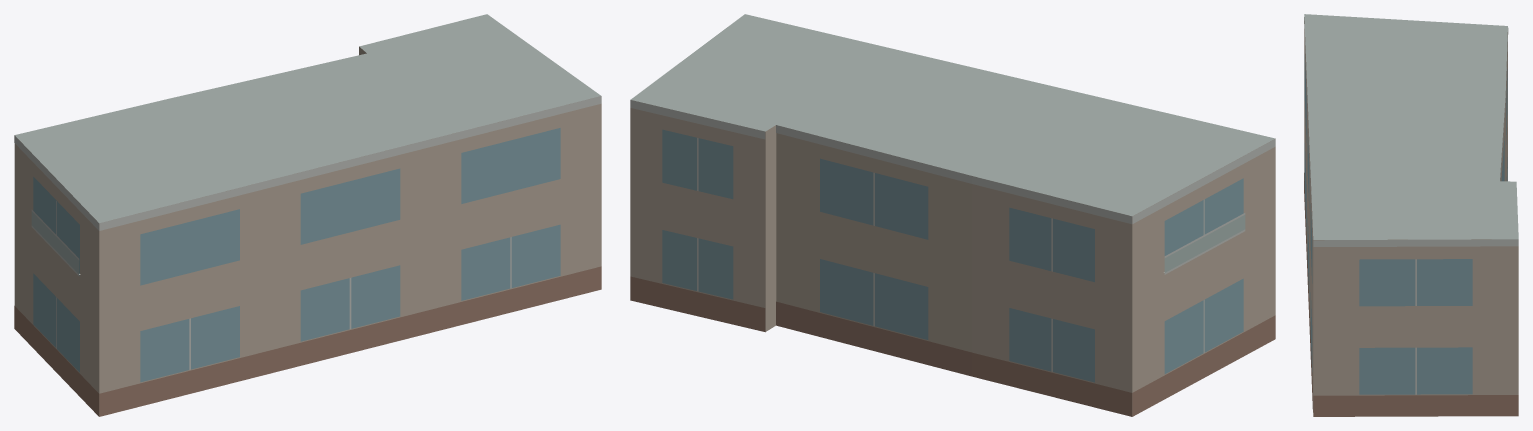
Rendered from survey-upis-32750603.glb.
The picture shows the model from 3 angles, left to right: view 1: azimuth 30°, elevation 25°; view 2: azimuth 150°, elevation 25°; view 3: azimuth 270°, elevation 25°; orthographic projection. The views are drawn at different scales.
Visible parts, largest first — view 1: survey-upis-32750603.tmp; view 2: survey-upis-32750603.tmp; view 3: survey-upis-32750603.tmp.
Boxes of the visible parts, left/top/right/bottom form: survey-upis-32750603.tmp: left=14, top=14, right=601, bottom=416; survey-upis-32750603.tmp: left=630, top=14, right=1275, bottom=416; survey-upis-32750603.tmp: left=1304, top=14, right=1518, bottom=416.
Bounding box in the file's own units: 16.74 × 6.1 × 6.72.
